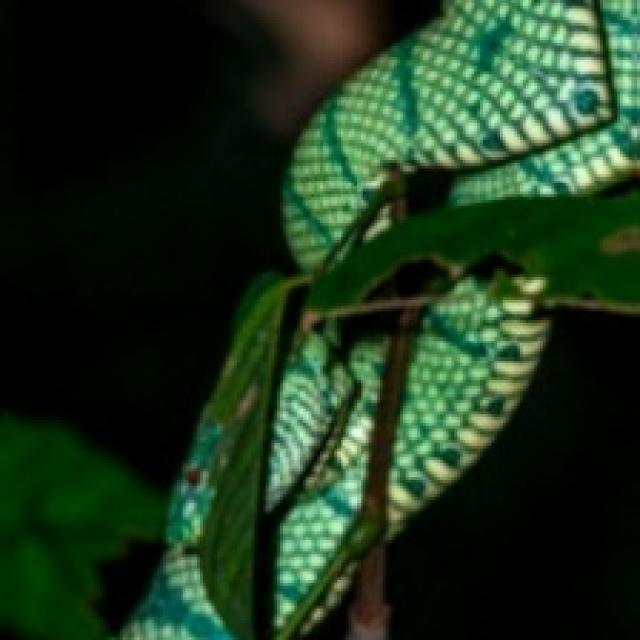north ph temple pitviper: (123, 0, 637, 637), (0, 0, 437, 637), (389, 314, 637, 637)
